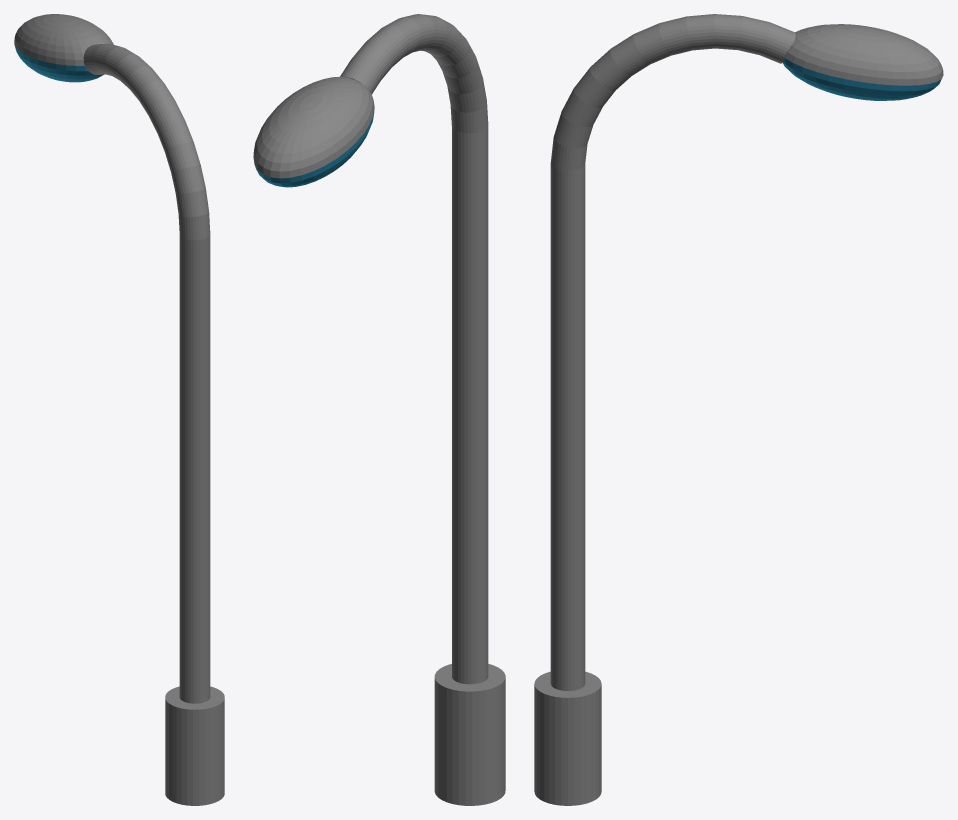
File: lampa.fbx
The picture shows the model from 3 angles, left to right: view 1: azimuth 30°, elevation 25°; view 2: azimuth 150°, elevation 25°; view 3: azimuth 270°, elevation 25°; orthographic projection. The views are drawn at different scales.
Visible parts, largest first — view 1: lampa.003, lampa.001, lampa, lampa.002, lampa.004, lampa.005; view 2: lampa.003, lampa.001, lampa.002, lampa, lampa.004, lampa.005, lampa.006, lampa.007; view 3: lampa.003, lampa, lampa.001, lampa.002, lampa.007, lampa.005, lampa.006.
Part boxes in pixels (box(x1,y1,x2,y2)): lampa.003: box(179, 215, 210, 506); lampa.001: box(165, 651, 224, 805); lampa: box(88, 43, 209, 226); lampa.002: box(179, 491, 210, 660); lampa.004: box(14, 14, 74, 82); lampa.005: box(54, 15, 111, 82); lampa.003: box(452, 104, 488, 438); lampa.001: box(434, 628, 505, 805); lampa.002: box(452, 422, 488, 642); lampa: box(341, 14, 486, 141); lampa.004: box(287, 99, 374, 186); lampa.005: box(293, 70, 375, 115); lampa.006: box(253, 116, 294, 187); lampa.007: box(254, 85, 307, 147); lampa.003: box(550, 138, 585, 462); lampa: box(553, 14, 787, 176); lampa.001: box(534, 630, 601, 805); lampa.002: box(550, 441, 585, 645); lampa.007: box(798, 38, 916, 100); lampa.005: box(777, 24, 890, 85); lampa.006: box(874, 39, 943, 100).
Bounding box in the file's own units: 29.51 × 274 × 131.
